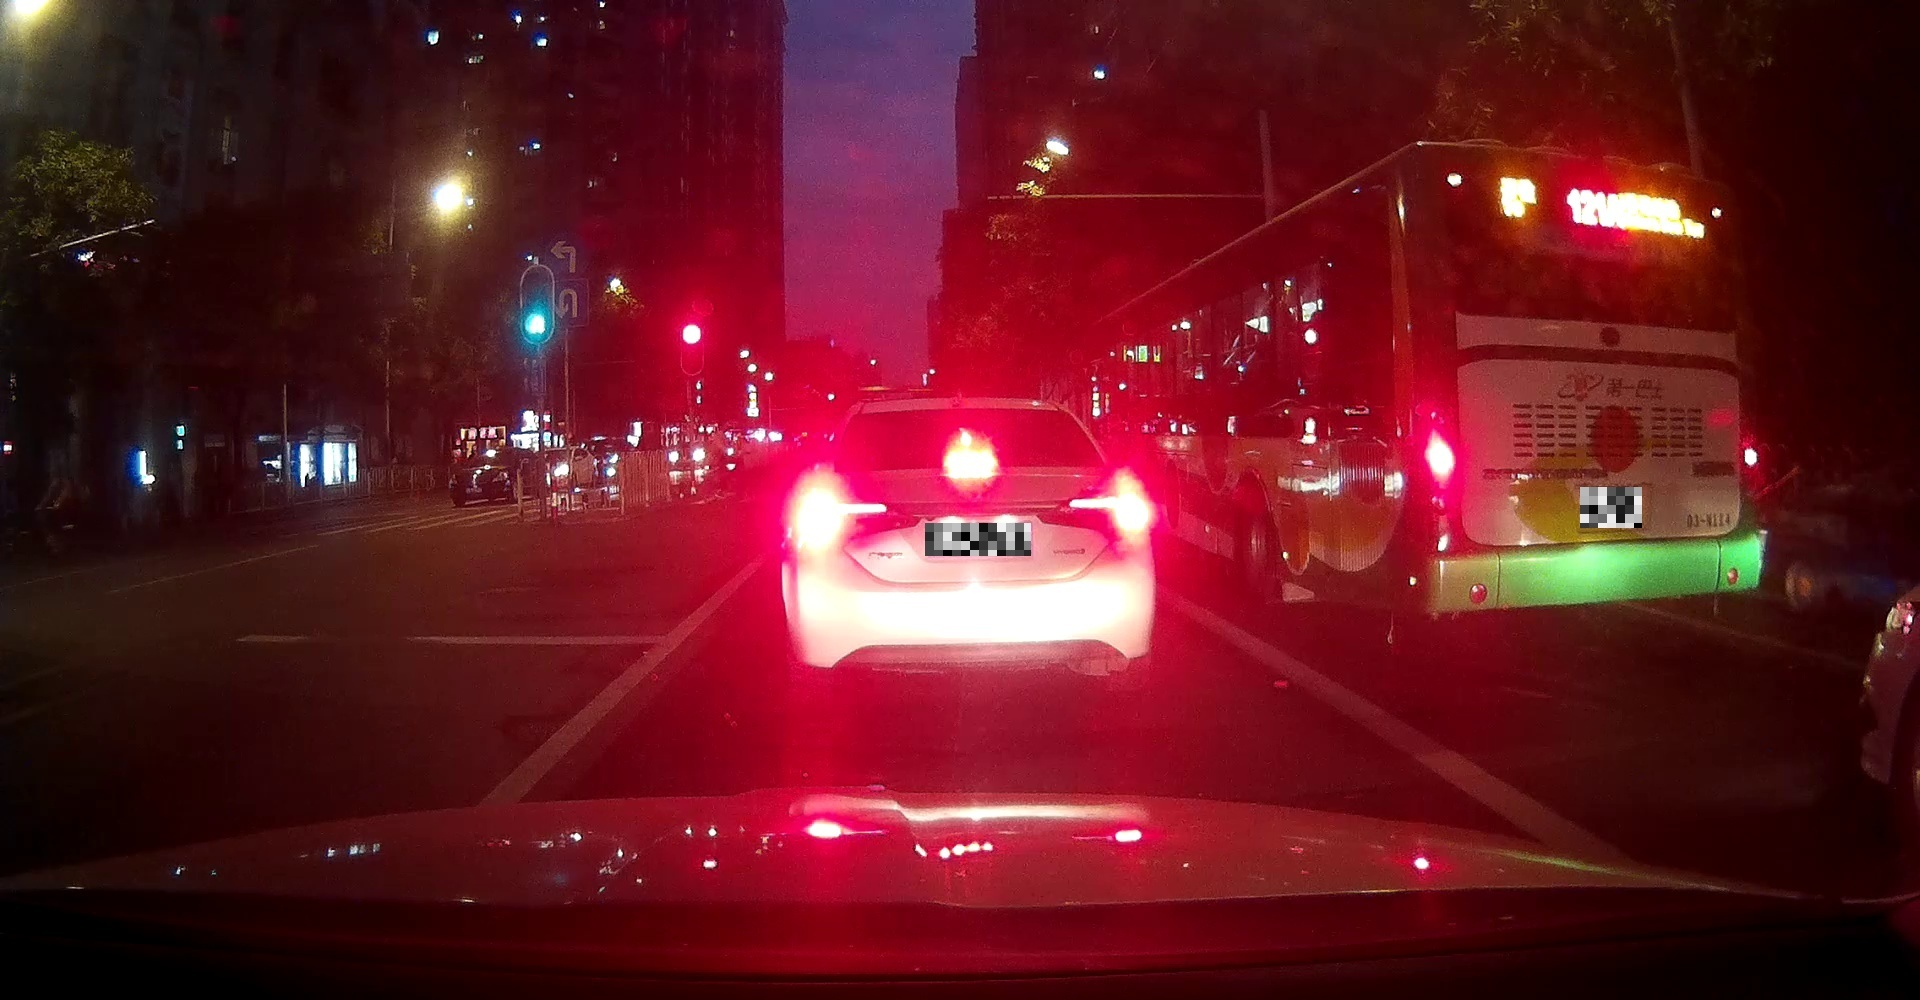L_light: (797, 487, 888, 548), (1420, 425, 1462, 494)
R_light: (1068, 478, 1153, 534), (1740, 421, 1763, 490)
T_light: (1556, 165, 1625, 181), (943, 449, 1001, 467)
night-brake: (789, 397, 1156, 708)
night-no: (1408, 142, 1763, 654)
plate_1: (924, 523, 1031, 556)
plate_2: (1580, 487, 1642, 528)
